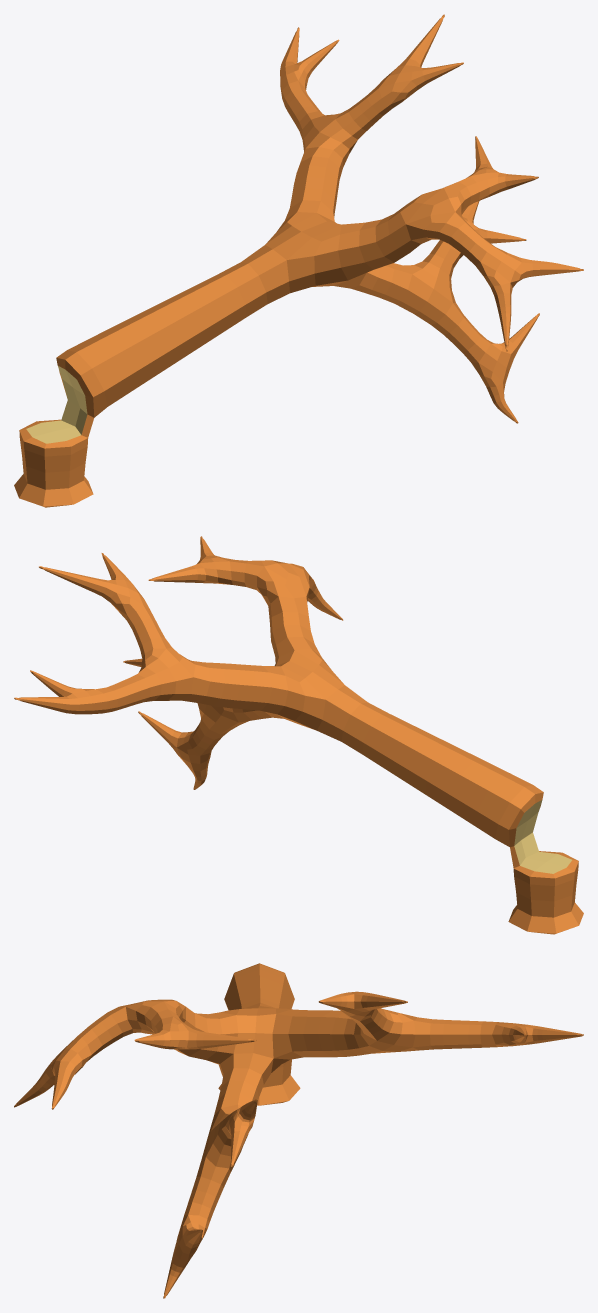
The model's file is felled tree2.fbx.
3 views of the same model, one above another, from view 1: azimuth 30°, elevation 25°; view 2: azimuth 150°, elevation 25°; view 3: azimuth 270°, elevation 25° (orthographic). The views are drawn at different scales.
Parts seen in each view (by area): view 1: felled tree 2; view 2: felled tree 2; view 3: felled tree 2.
Boxes of the visible parts, x1=… form: felled tree 2: x1=14, y1=14, x2=583, y2=507; felled tree 2: x1=14, y1=536, x2=583, y2=934; felled tree 2: x1=14, y1=963, x2=583, y2=1298.
Size of the model in its own units: 444 by 270 by 429.
